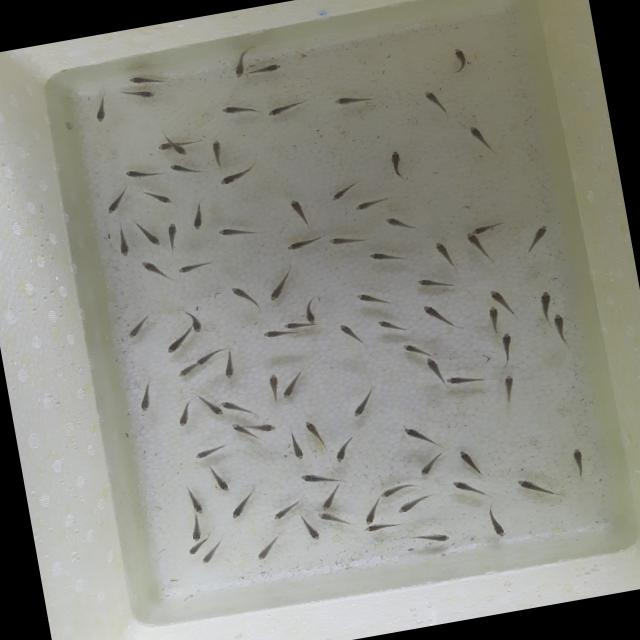fingerling: (258, 265, 304, 307), (215, 159, 265, 188), (136, 254, 178, 288), (448, 474, 492, 506), (478, 500, 512, 541), (418, 300, 457, 334), (514, 473, 560, 501), (224, 282, 262, 314), (346, 383, 377, 422), (262, 96, 312, 120), (364, 244, 412, 268), (406, 272, 458, 294), (350, 191, 396, 215), (166, 157, 213, 180), (406, 526, 453, 548), (215, 100, 262, 122), (353, 287, 394, 312), (284, 197, 315, 230), (421, 87, 452, 120), (460, 229, 486, 268), (294, 467, 342, 488), (566, 444, 594, 479), (267, 495, 306, 520), (402, 422, 439, 448), (468, 121, 494, 158), (488, 286, 520, 316), (334, 320, 366, 350), (227, 48, 257, 80), (443, 43, 472, 76), (125, 70, 172, 90), (314, 506, 356, 528), (392, 494, 438, 514), (332, 88, 378, 108), (155, 134, 203, 153), (303, 414, 328, 450), (132, 219, 162, 249), (277, 373, 310, 400), (442, 370, 494, 387), (142, 186, 182, 208), (283, 426, 308, 461), (324, 232, 372, 250), (216, 221, 257, 242), (378, 478, 421, 498), (190, 440, 230, 461), (124, 314, 154, 342), (196, 390, 223, 421), (101, 191, 132, 218), (199, 538, 231, 564), (388, 146, 411, 182), (220, 396, 259, 417), (532, 290, 559, 320), (246, 62, 286, 82), (250, 538, 283, 562), (550, 310, 572, 346), (382, 212, 418, 234), (429, 237, 456, 266), (372, 314, 406, 337), (332, 434, 358, 464), (422, 355, 448, 385), (496, 331, 518, 366), (184, 202, 208, 234), (163, 326, 190, 354), (454, 447, 484, 472), (328, 179, 360, 202), (132, 386, 158, 414), (90, 94, 112, 127), (194, 345, 230, 365), (260, 326, 300, 344), (280, 236, 320, 254), (124, 162, 160, 182), (400, 339, 434, 360), (228, 492, 255, 518), (482, 305, 505, 335), (205, 136, 228, 166), (358, 519, 403, 534), (525, 222, 550, 249), (176, 258, 218, 274), (499, 373, 522, 402), (471, 218, 510, 235), (414, 454, 444, 476), (122, 86, 158, 104), (361, 498, 384, 526), (208, 464, 230, 493), (319, 485, 344, 510), (298, 511, 318, 542), (183, 309, 207, 334), (173, 402, 196, 428), (220, 353, 240, 382), (164, 221, 182, 253), (249, 419, 279, 438), (264, 372, 283, 402), (230, 419, 252, 444), (187, 483, 204, 515), (302, 298, 320, 326), (280, 318, 311, 334), (185, 538, 212, 556), (116, 228, 132, 258), (188, 514, 202, 542), (176, 364, 196, 378), (173, 144, 192, 158)
